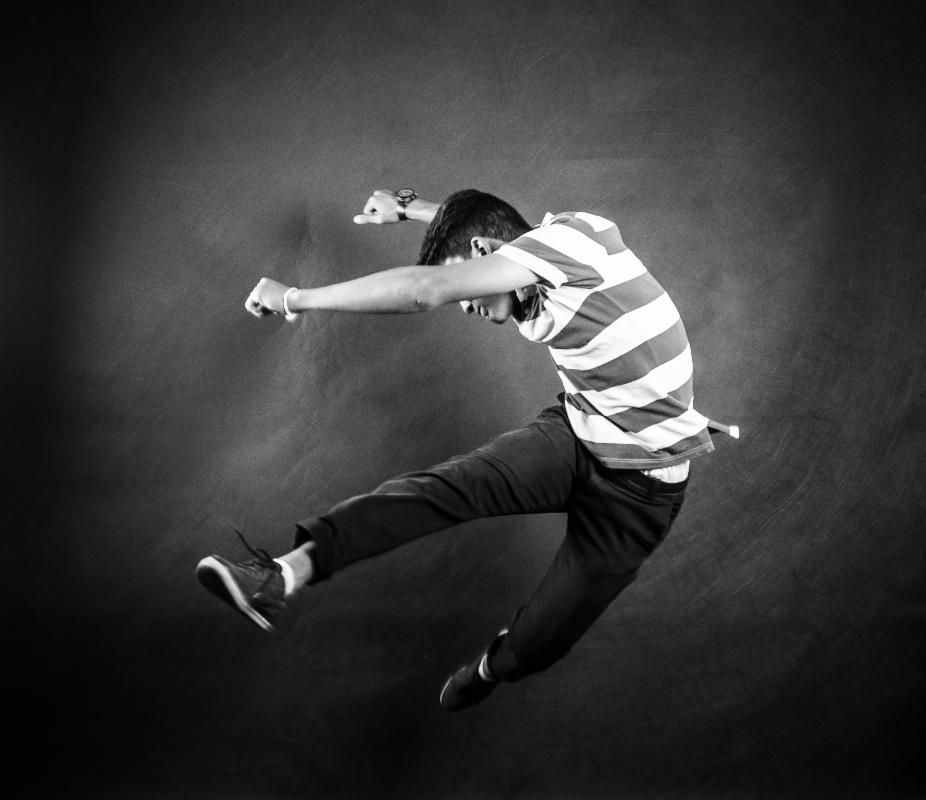Person: (192, 179, 720, 726)
